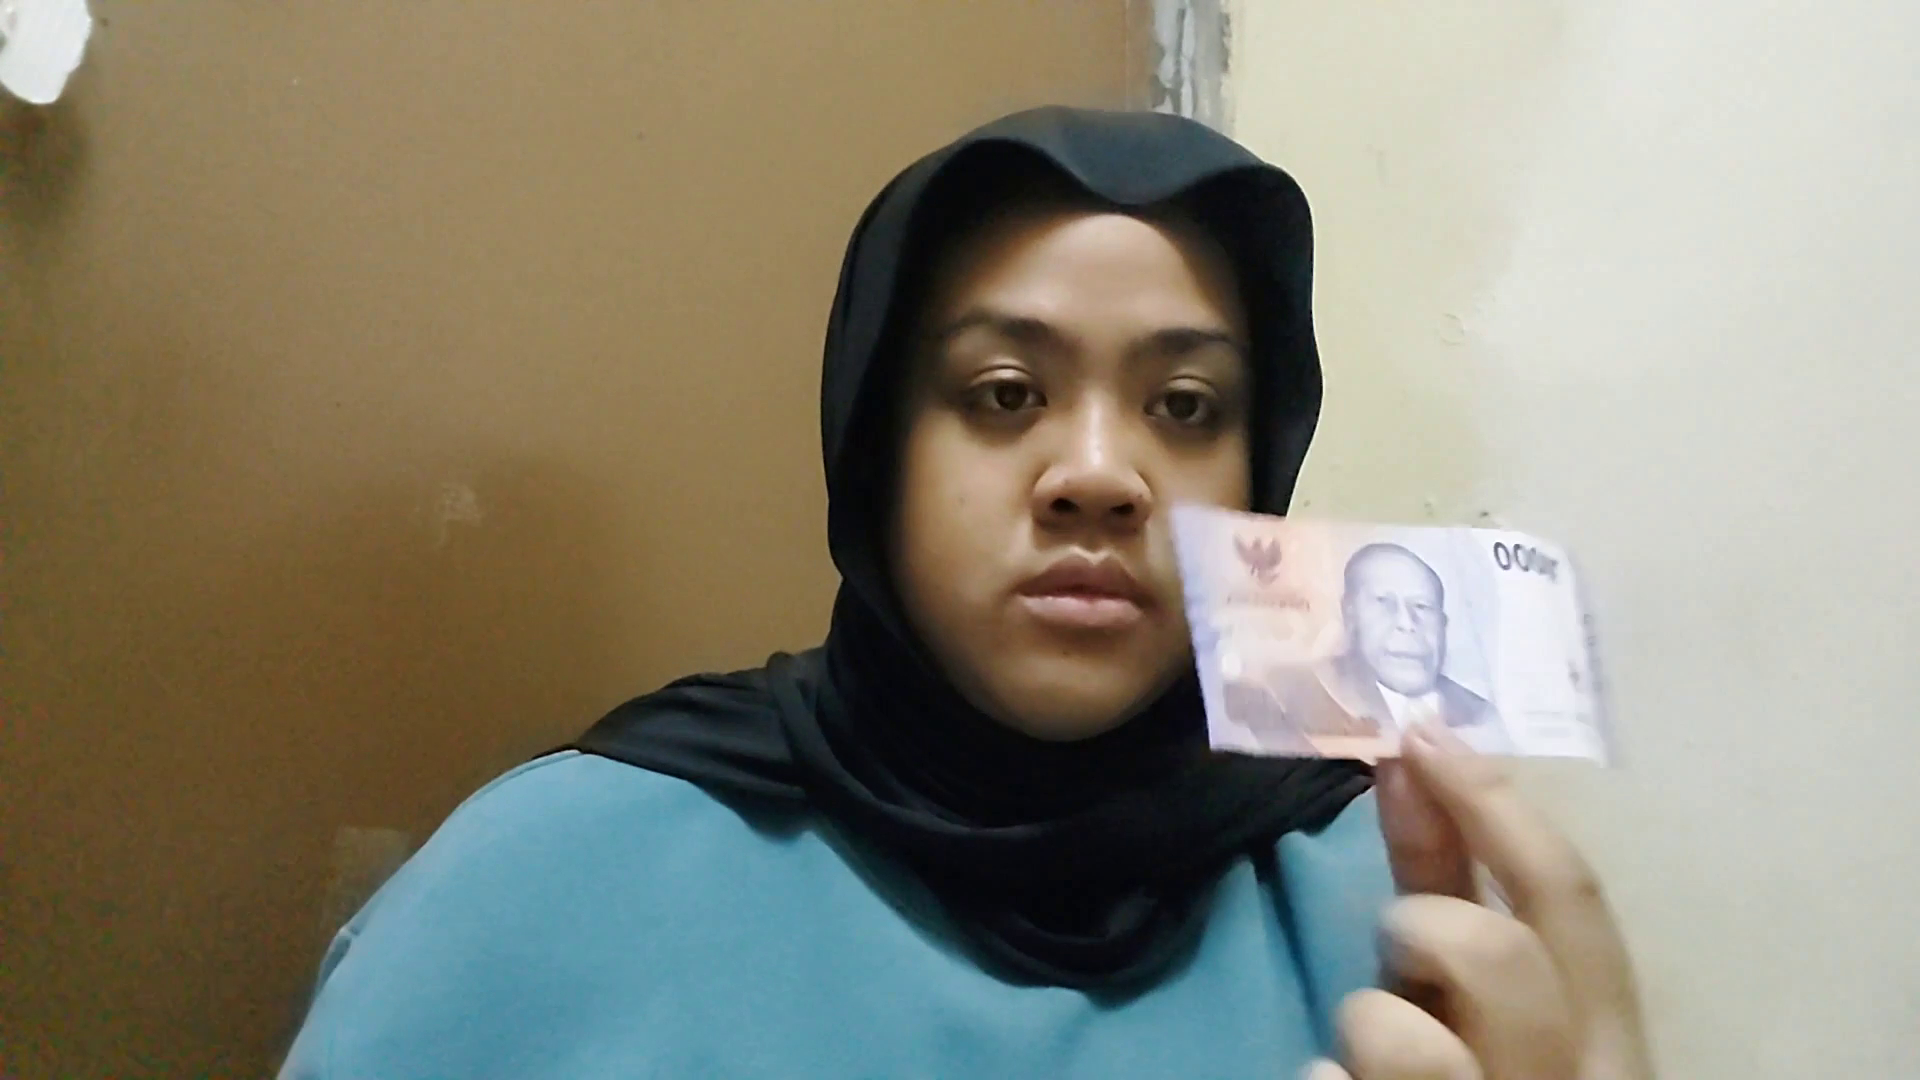10k: (1176, 509, 1631, 769)
